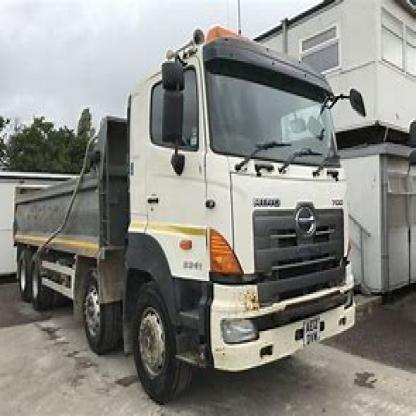dump_truck: (13, 28, 360, 398)
